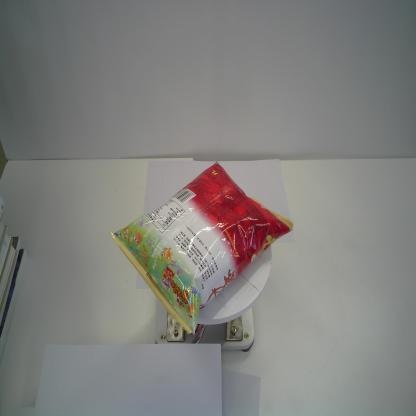Puffed Food: (110, 160, 294, 335)
